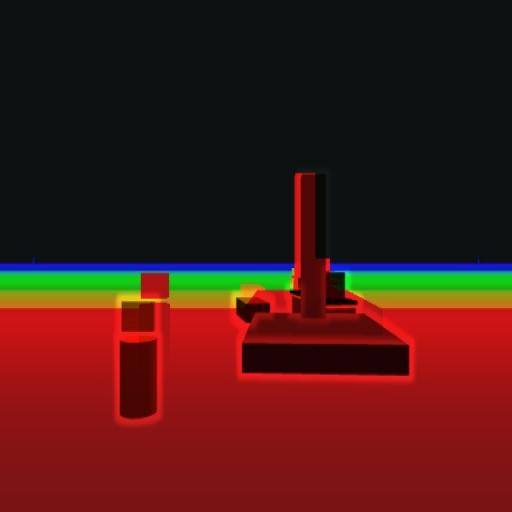platform: (237, 173, 411, 376)
